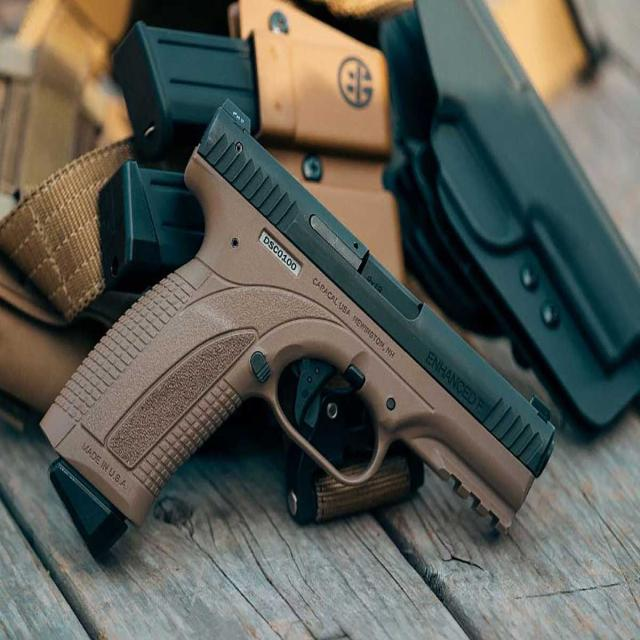Gun: (37, 89, 561, 616)
